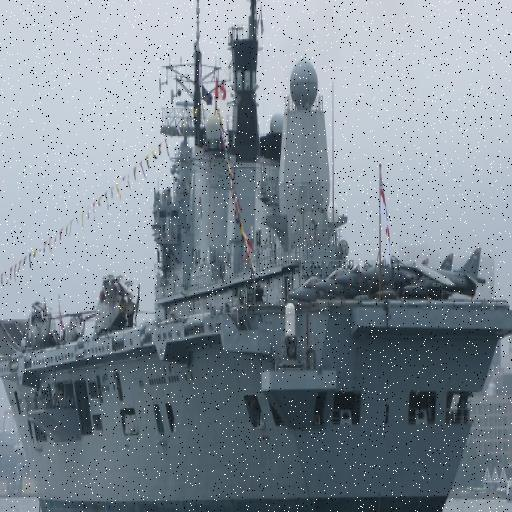Portanaves: (1, 9, 512, 512)
